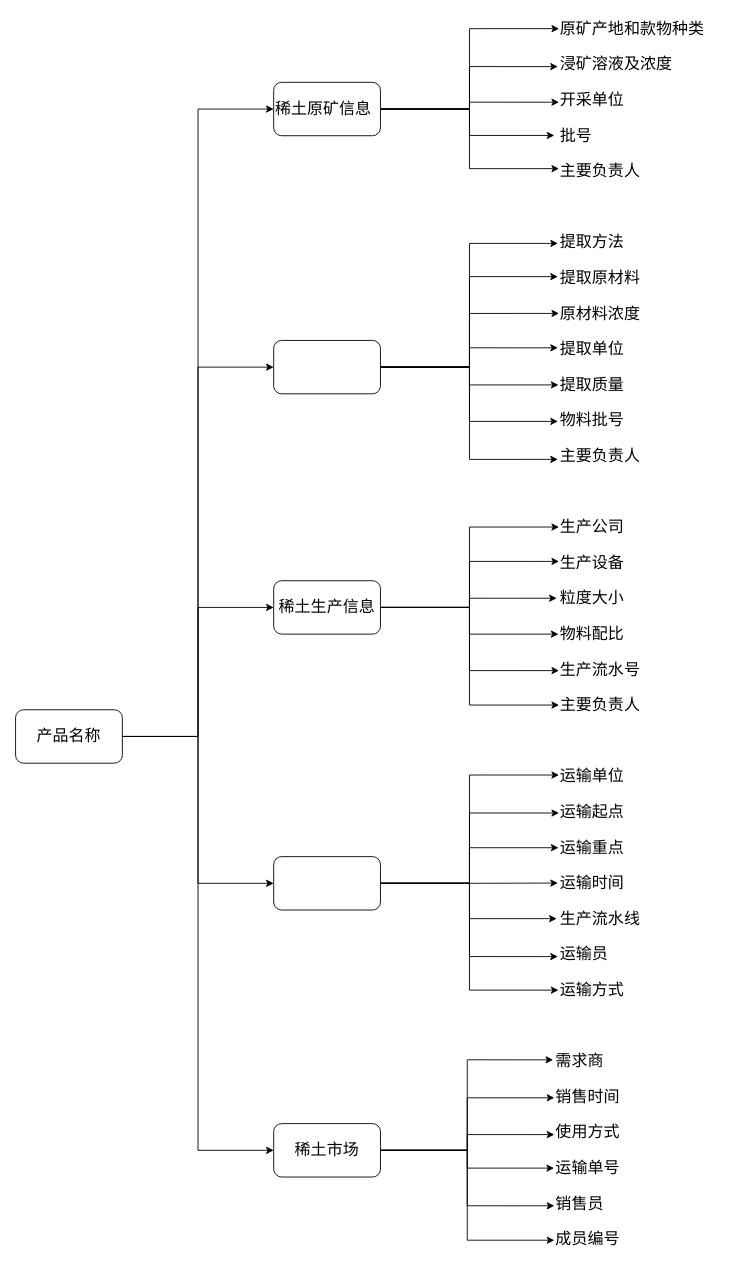
Image size: 734x1267. Some labels were removed from this diagram. Here are the shapes that lost their labels. From the top down, the box of each, then its label:
(273, 340, 380, 394): 稀土提取信息
(273, 856, 380, 910): 稀土运输
